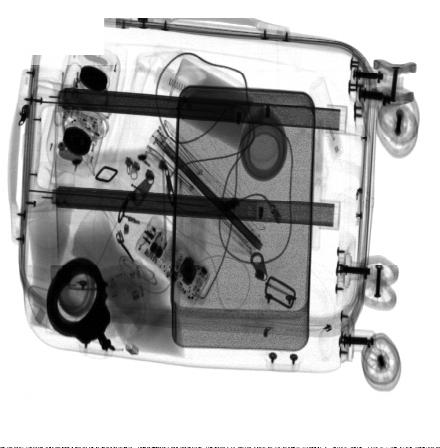HandCuffs: (43, 257, 112, 351)
